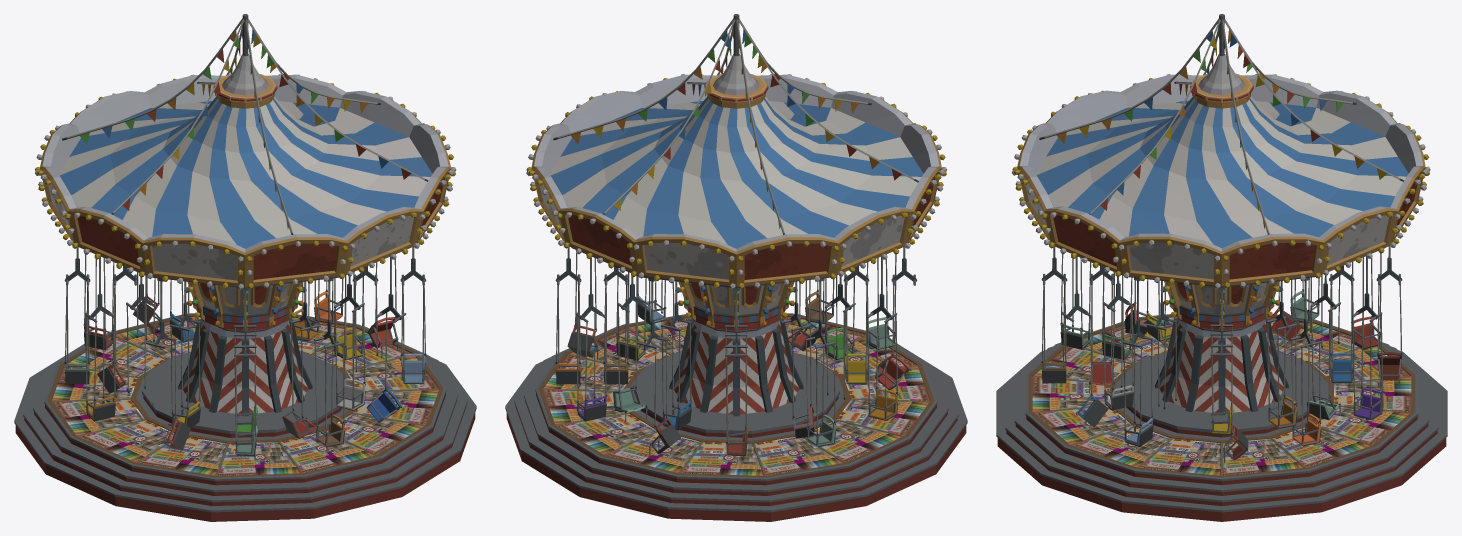
Rendered from swing-ride.glb.
3 views of the same model, side by side, from view 1: azimuth 30°, elevation 25°; view 2: azimuth 150°, elevation 25°; view 3: azimuth 270°, elevation 25° (orthographic).
Visible parts, largest first — view 1: SM_Prop_Swinging_Chairs_01; view 2: SM_Prop_Swinging_Chairs_01; view 3: SM_Prop_Swinging_Chairs_01.
Boxes of the visible parts, x1,y1,x2,y2 form: SM_Prop_Swinging_Chairs_01: (14,14,476,521); SM_Prop_Swinging_Chairs_01: (505,14,967,521); SM_Prop_Swinging_Chairs_01: (996,14,1447,521).
Size of the model in its own units: 1278 by 1249 by 1246.
Materials: 1 (1 with a texture image).
